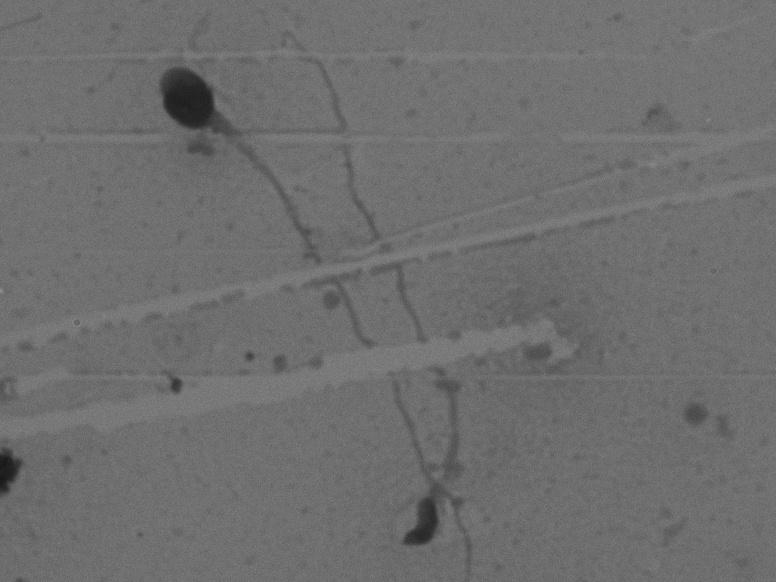Abnormal: (114, 38, 440, 481), (245, 24, 481, 563)
